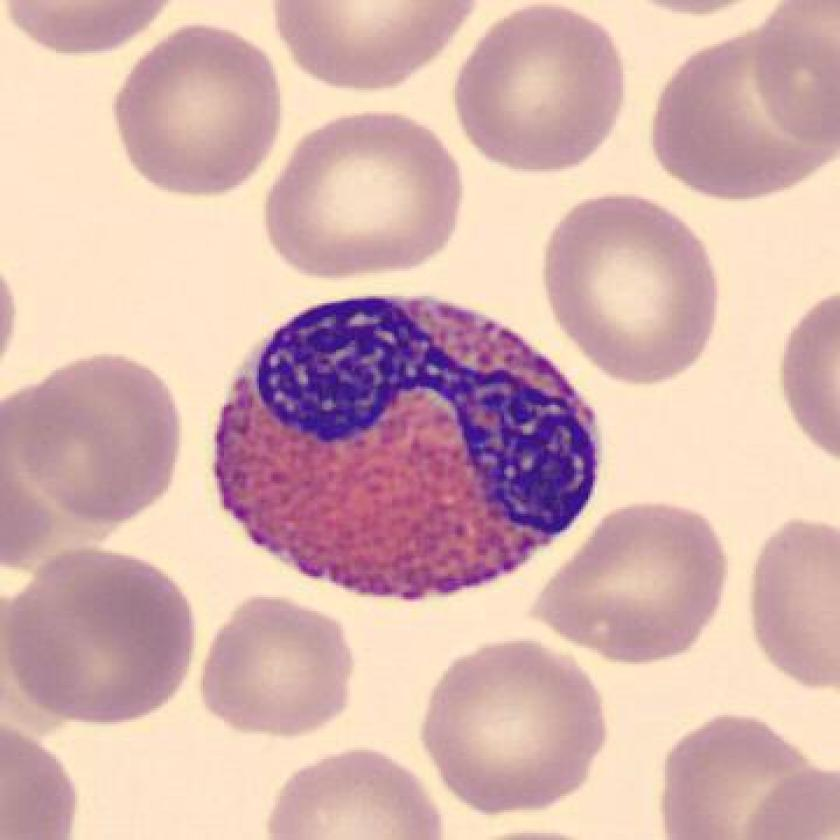eosinophil: (202, 281, 622, 612)
